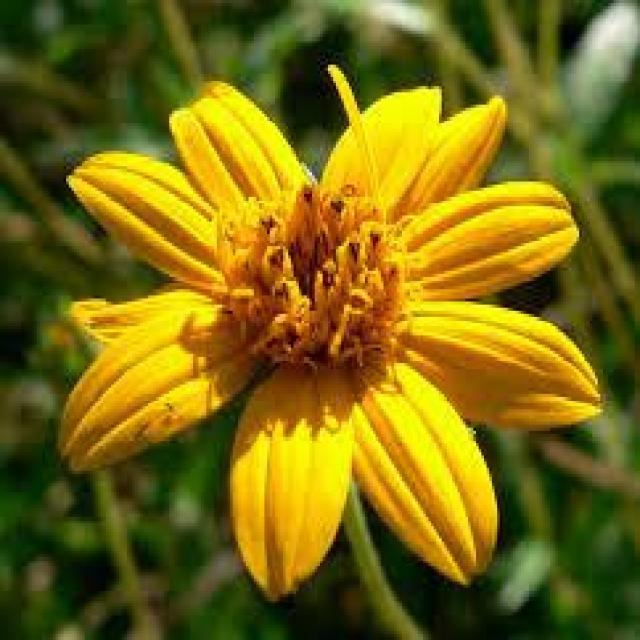organic waste: (54, 69, 628, 608)
